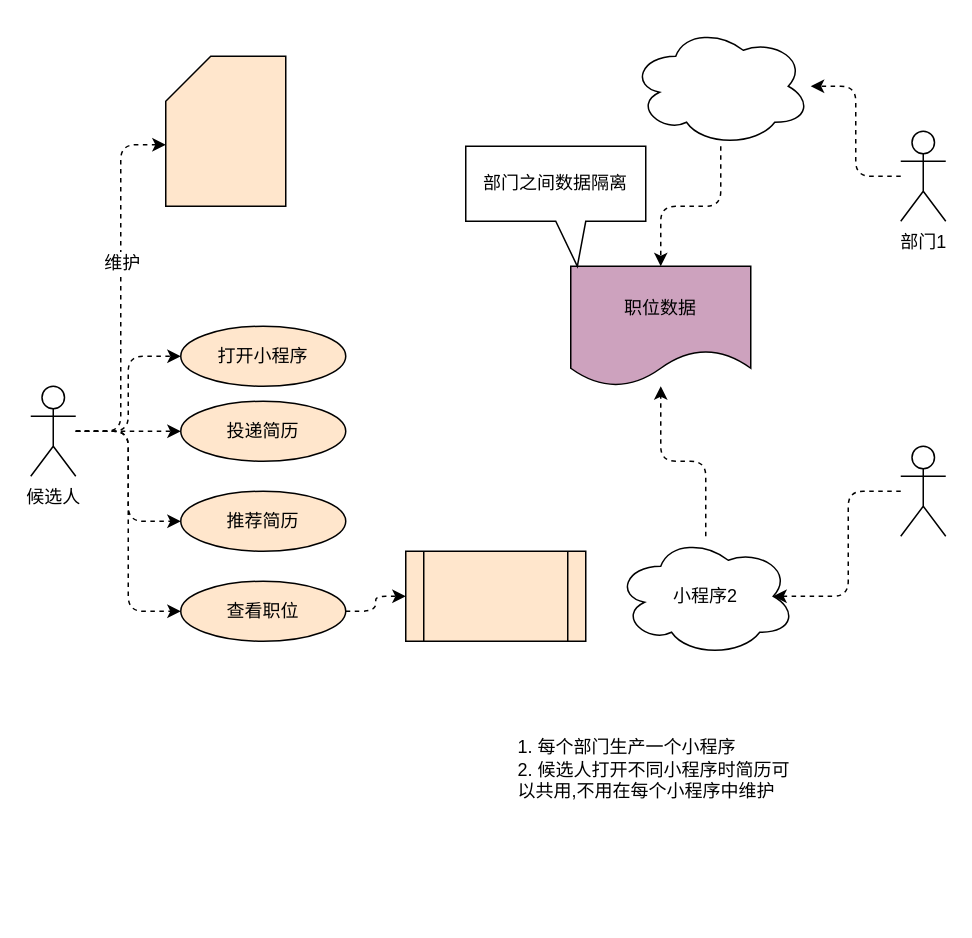
The diagram is 972 pixels wide and 938 high, and some of its shapes have lost their labels. The shapes that lost their labels are listed below. From the top down, each one's centre as x and y in pixels, then its label:
At (x=720, y=85): "小程序1".
At (x=225, y=130): "简历".
At (x=922, y=490): "部门2".
At (x=495, y=595): "根据打开的小程序,显示不同部门的数据".
